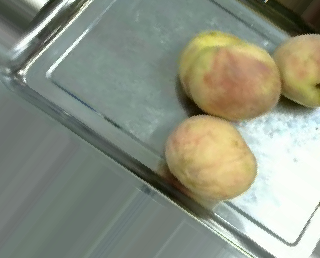Peach: (178, 30, 281, 120), (164, 115, 257, 207), (273, 32, 319, 110)
